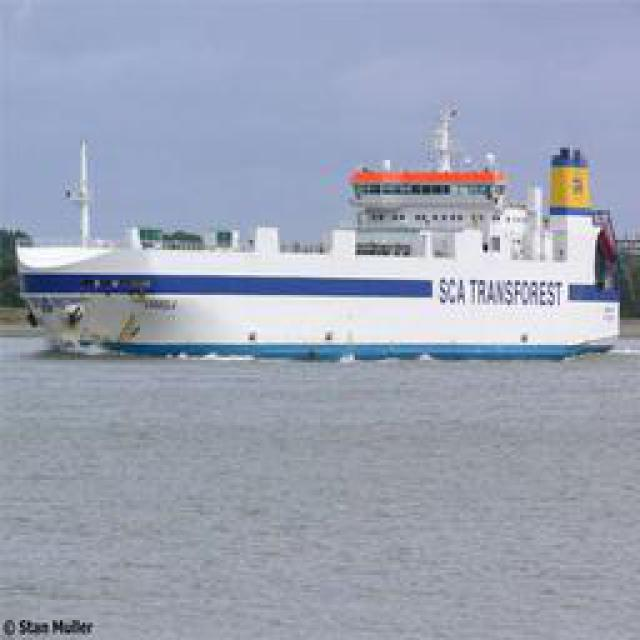Ship: (7, 114, 630, 359)
